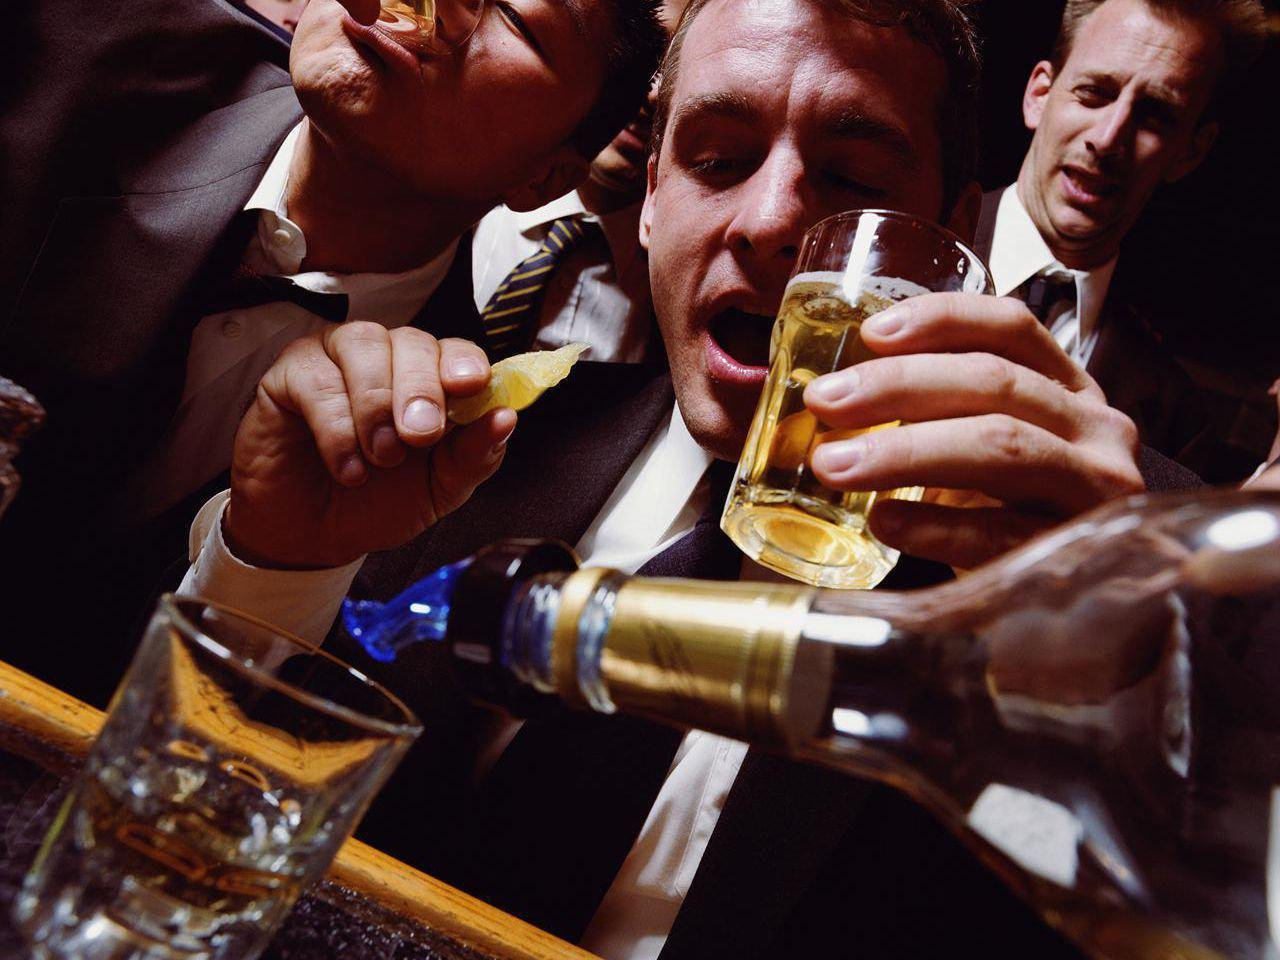Drunk: (655, 6, 927, 443), (1040, 0, 1198, 249)
